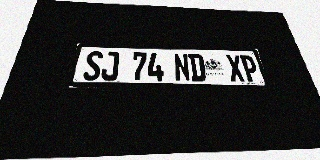4: (148, 52, 164, 81)
7: (131, 52, 147, 81)
D: (188, 53, 207, 81)
J: (100, 51, 119, 81)
N: (173, 53, 191, 81)
P: (239, 55, 261, 82)
S: (82, 51, 103, 80)
X: (225, 54, 246, 82)
